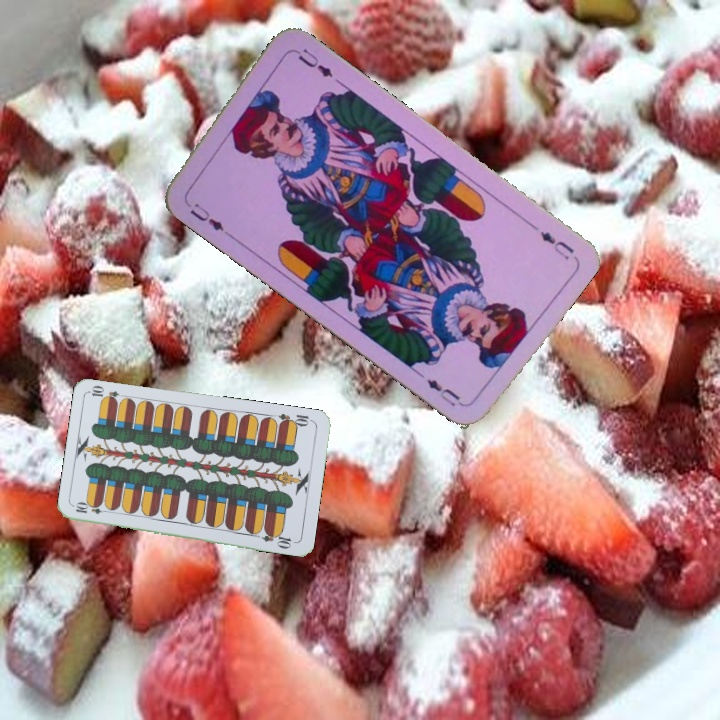E10: (275, 409, 315, 430), (72, 500, 112, 517)
EU: (181, 197, 227, 234), (536, 227, 577, 263)
